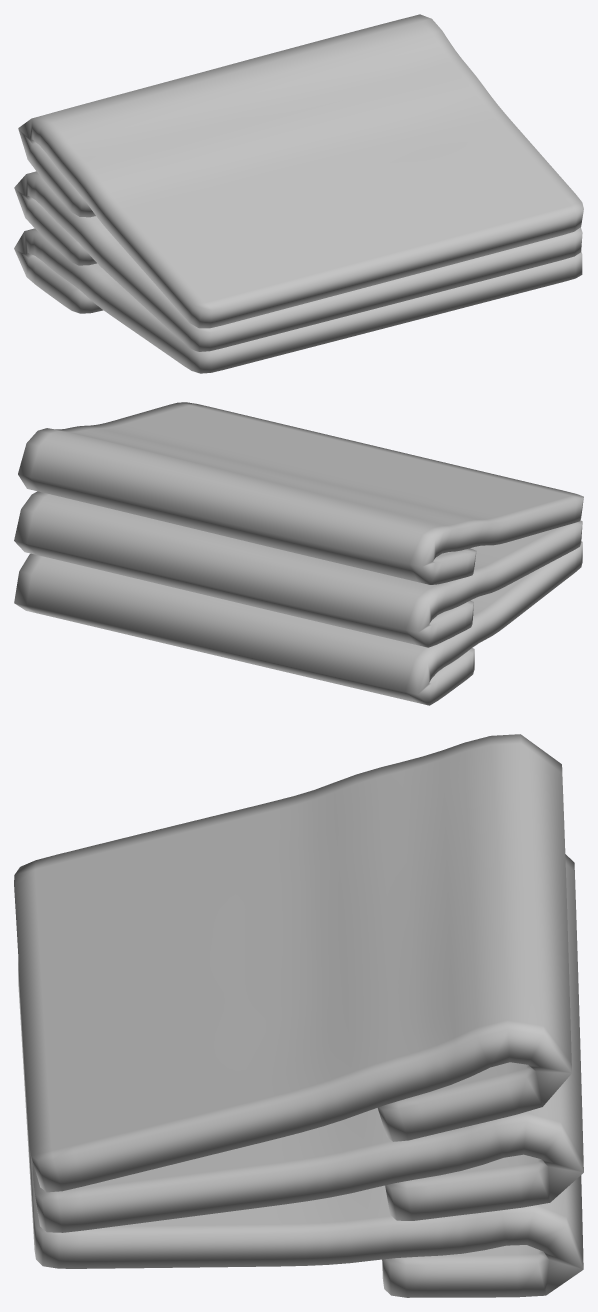
Rendered from KainTumpuk.fbx.
3 views of the same model, one above another, from view 1: azimuth 30°, elevation 25°; view 2: azimuth 150°, elevation 25°; view 3: azimuth 270°, elevation 25° (orthographic). The views are drawn at different scales.
Visible parts, largest first — view 1: Kaintumpuk_LOD0; view 2: Kaintumpuk_LOD0; view 3: Kaintumpuk_LOD0.
Part boxes in pixels (x1=…): Kaintumpuk_LOD0: x1=14, y1=14, x2=583, y2=373; Kaintumpuk_LOD0: x1=14, y1=402, x2=583, y2=705; Kaintumpuk_LOD0: x1=14, y1=734, x2=583, y2=1297.
Size of what is drawn, in the model's own units: 118 by 47.81 by 91.88.
